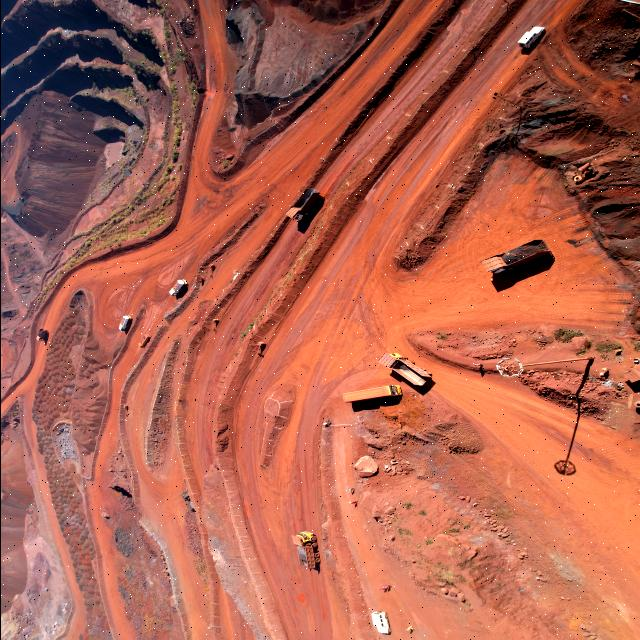Dumper truck: (480, 240, 550, 280), (380, 353, 430, 385), (283, 189, 319, 224), (292, 532, 318, 570), (381, 354, 407, 369), (34, 329, 46, 343)
car: (515, 27, 545, 50), (371, 611, 390, 635)
person: (382, 585, 391, 589), (404, 628, 413, 632), (345, 488, 354, 492), (349, 500, 358, 504), (378, 588, 386, 590)
